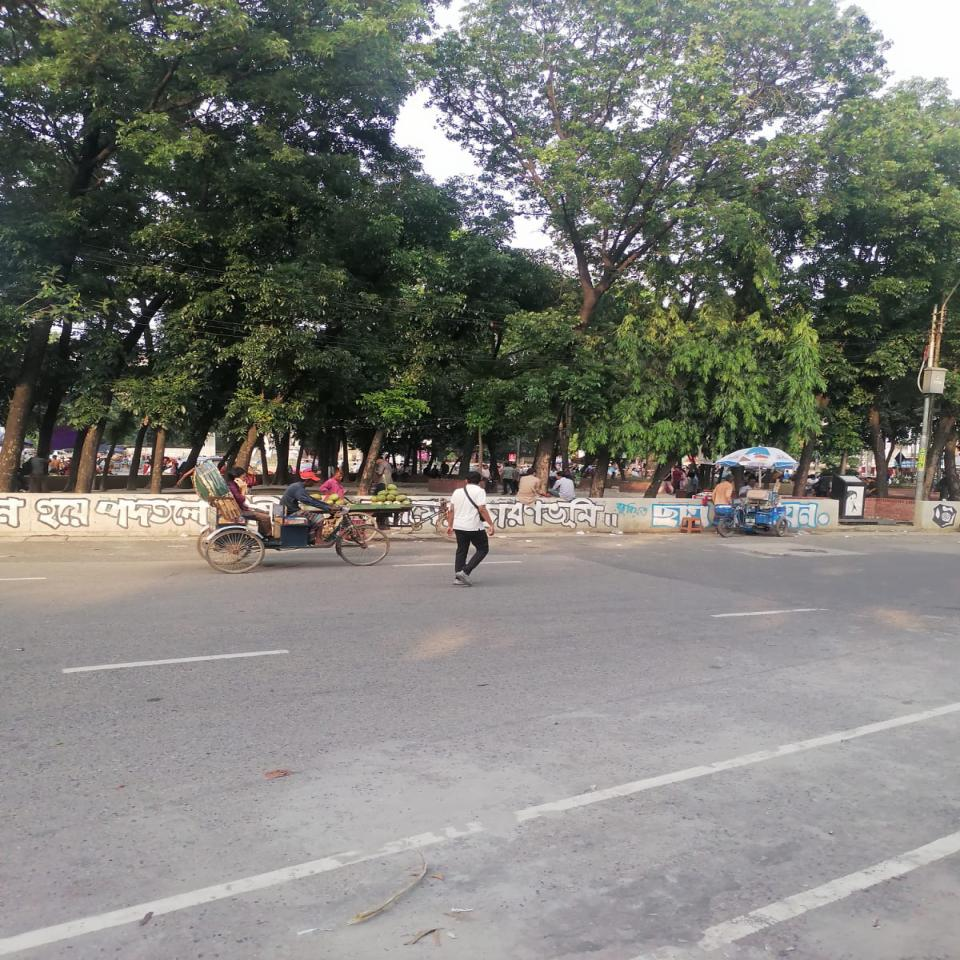person: (446, 471, 494, 586)
